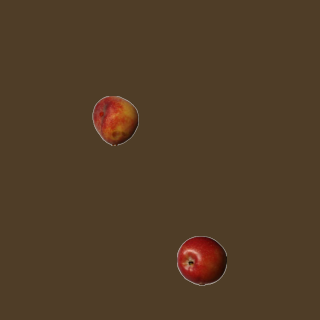Apple Braeburn: (176, 235, 226, 285)
Peach: (90, 95, 140, 145)
